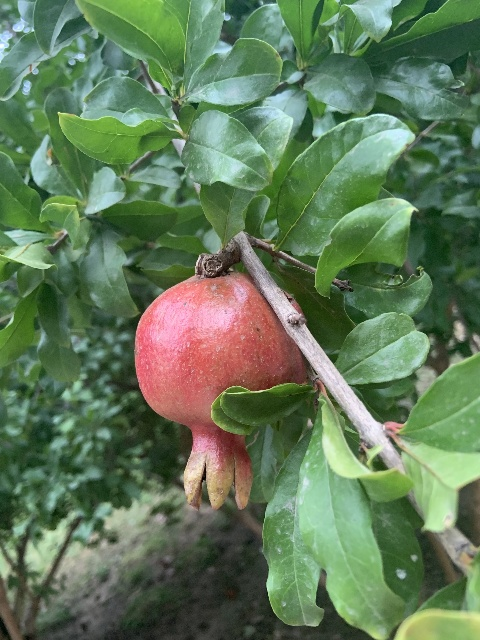ripe: (133, 273, 310, 510)
